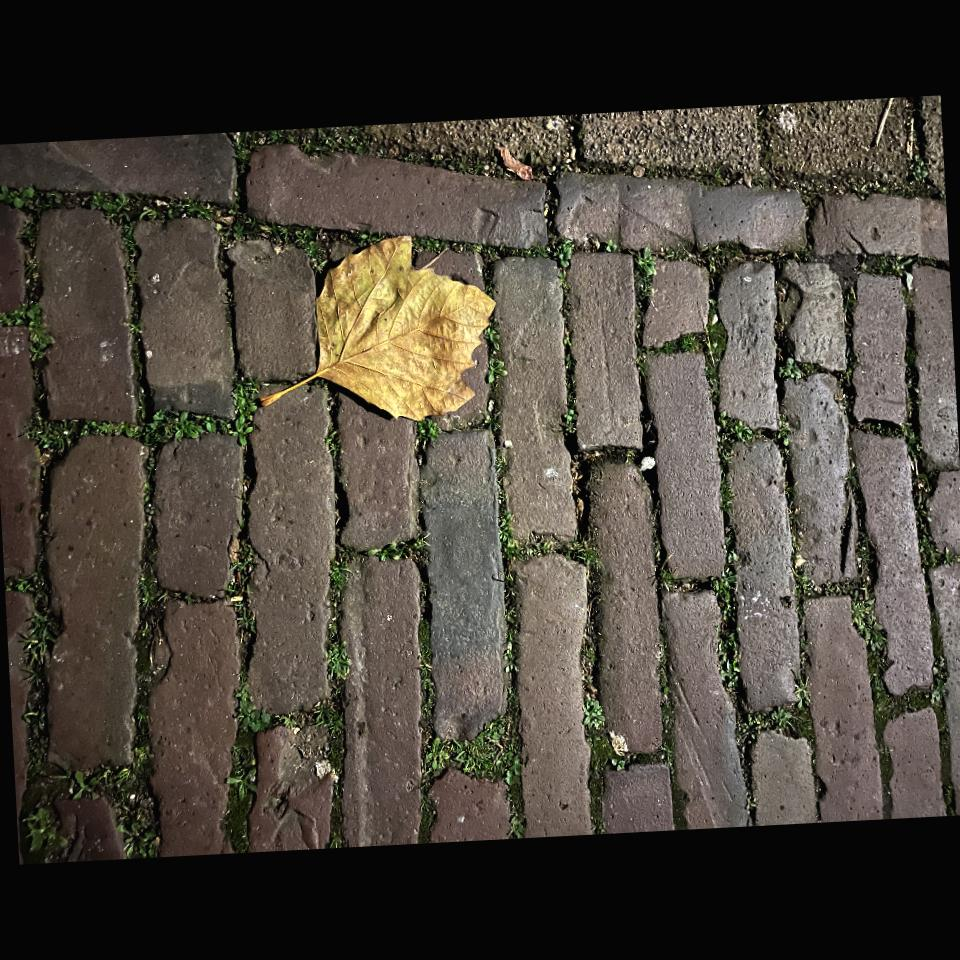weed: (0, 186, 326, 268), (42, 745, 161, 859), (423, 696, 523, 813), (115, 380, 258, 446), (713, 537, 740, 704), (716, 406, 753, 472), (36, 421, 116, 451), (706, 301, 729, 401), (637, 248, 655, 279), (721, 475, 733, 518)
